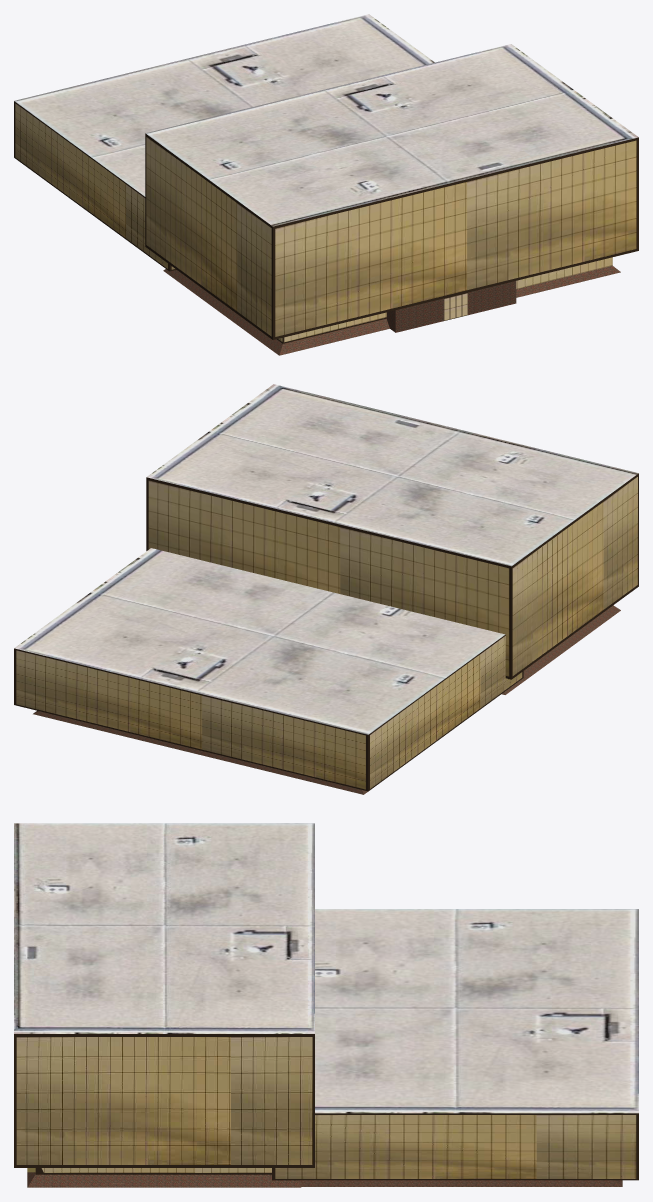
Rendered from block+79.fbx.
3 renders of one model, top to bottom at view 1: azimuth 30°, elevation 25°; view 2: azimuth 150°, elevation 25°; view 3: azimuth 270°, elevation 25°, orthographic. The views are drawn at different scales.
Visible parts, largest first — view 1: Group2, Group3; view 2: Group2, Group3; view 3: Group2, Group3.
Boxes of the visible parts, x1,y1,x2,y2 form: Group2: (145,44,638,355); Group3: (14,14,434,271); Group2: (146,384,638,694); Group3: (14,548,523,794); Group2: (14,823,314,1187); Group3: (272,909,638,1186).
Size of the model in its own units: 1822 by 656 by 2285.
